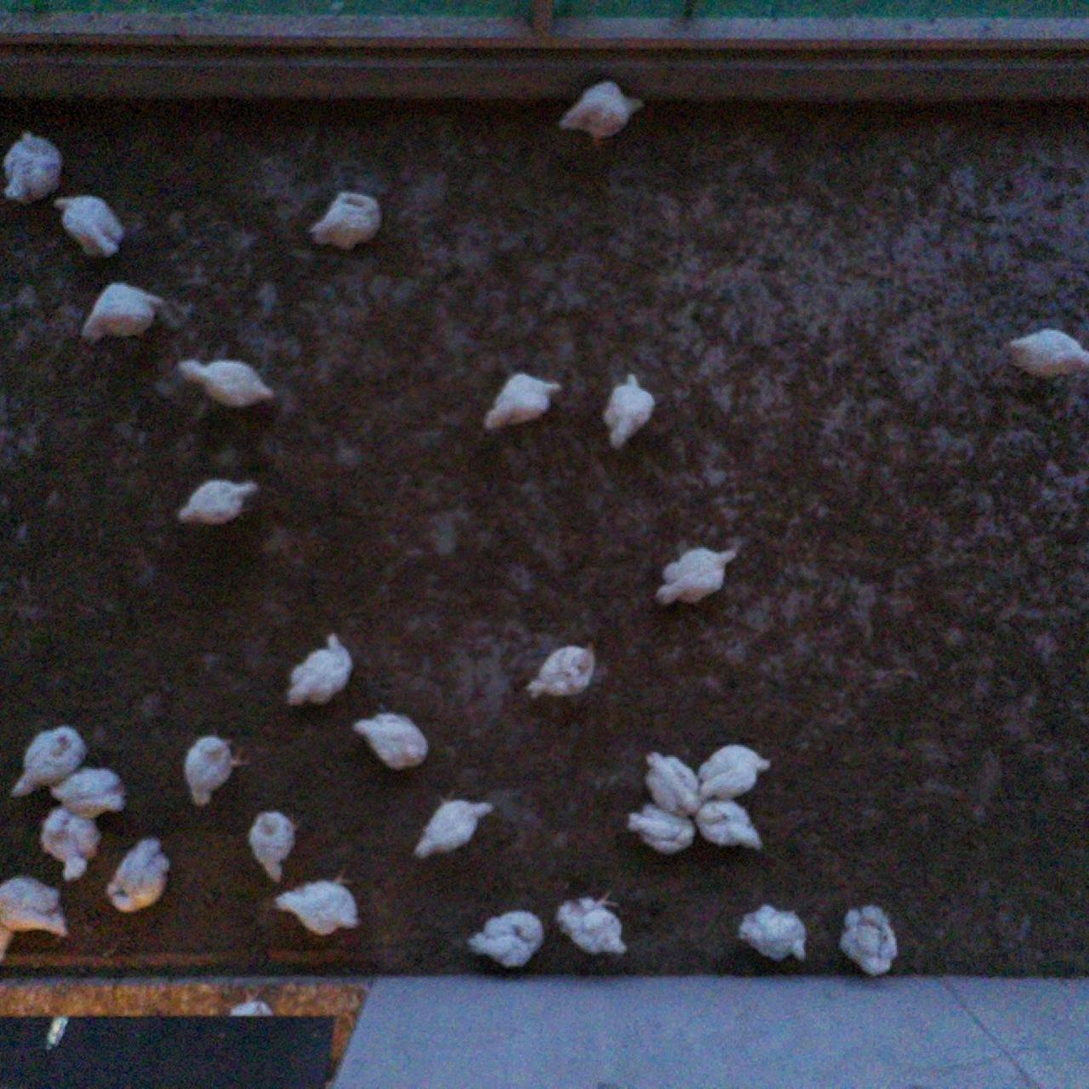chicken: (551, 76, 648, 151), (5, 722, 90, 807), (410, 785, 497, 867), (271, 866, 367, 940), (649, 540, 746, 612), (74, 277, 171, 349), (302, 180, 387, 260), (283, 626, 357, 715), (100, 832, 173, 922), (178, 729, 253, 814), (479, 367, 567, 439), (555, 885, 635, 963), (464, 902, 548, 975), (35, 802, 105, 887), (349, 706, 434, 775), (51, 191, 129, 265), (592, 368, 658, 455), (731, 898, 814, 967), (173, 352, 275, 407), (837, 898, 903, 982), (0, 126, 65, 211), (521, 637, 603, 704), (0, 871, 76, 943), (1001, 323, 1089, 385), (173, 475, 264, 532), (245, 803, 306, 888), (699, 739, 776, 805), (45, 764, 128, 823), (639, 748, 705, 818), (623, 798, 697, 859), (690, 799, 767, 854)
